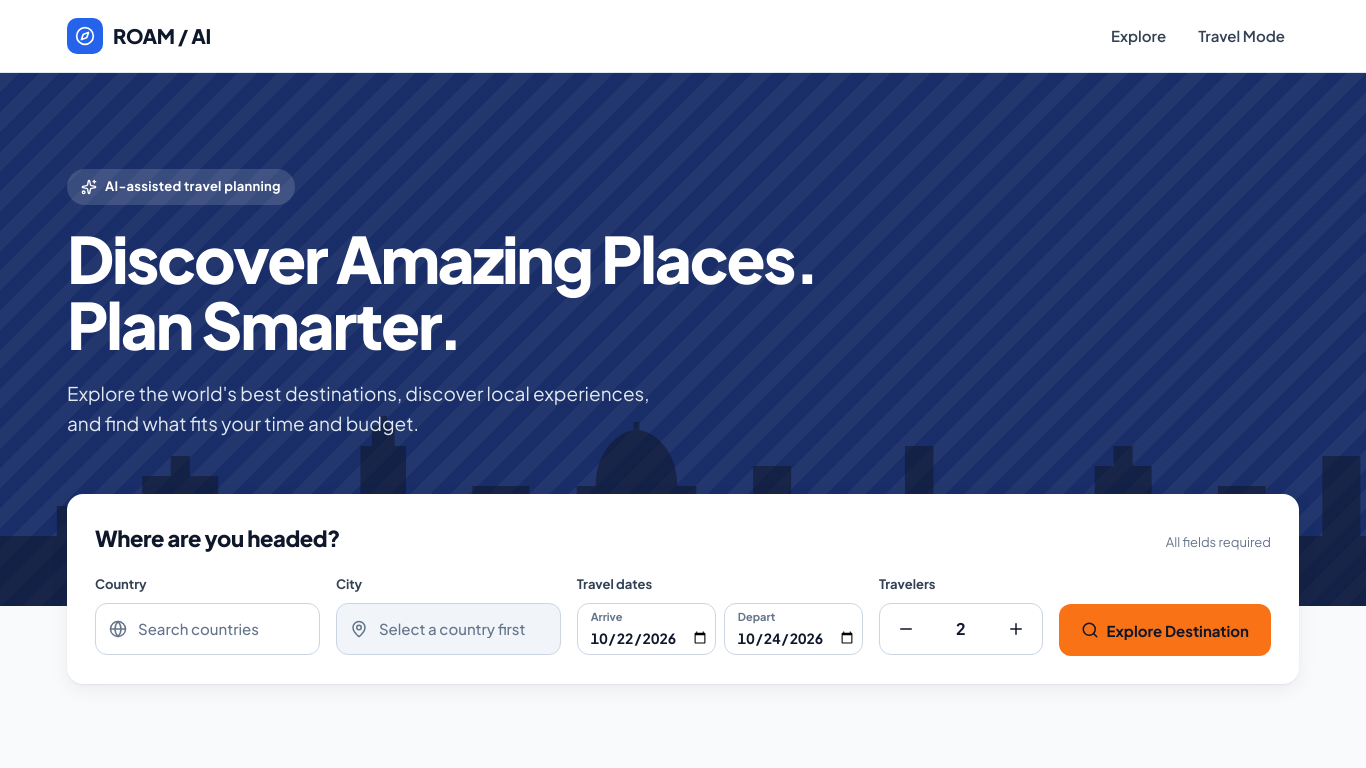
Test: HomePage › keeps the city picker disabled until a country is chosen
The image size is (1366, 768).
Expected: the dropdown labelled "City" is disabled, [336,603,561,655]
Step 1. Click the dropdown labelled "Country" → (207, 629), box [95,603,320,655]
(page scrolled)
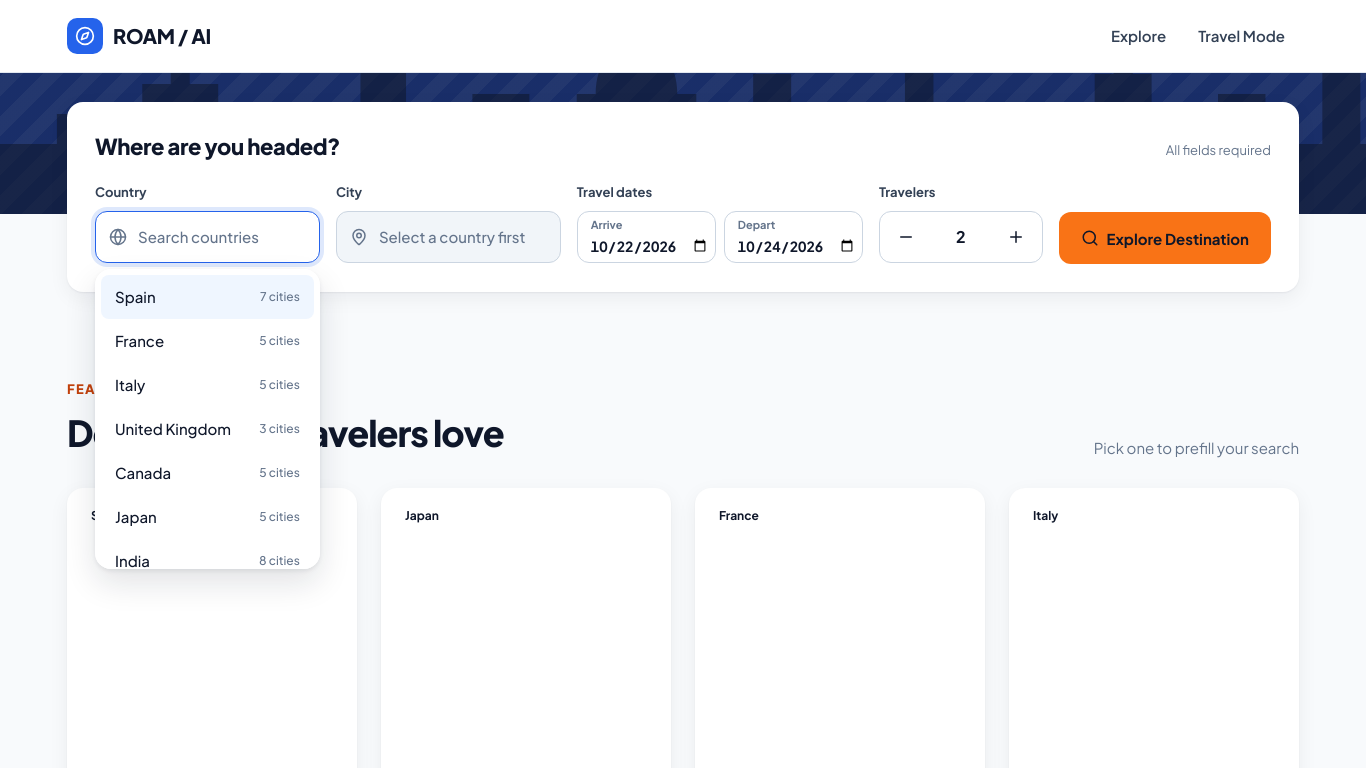
Step 2. Click the option "Italy 5 cities" → (130, 384), box [115,375,300,394]
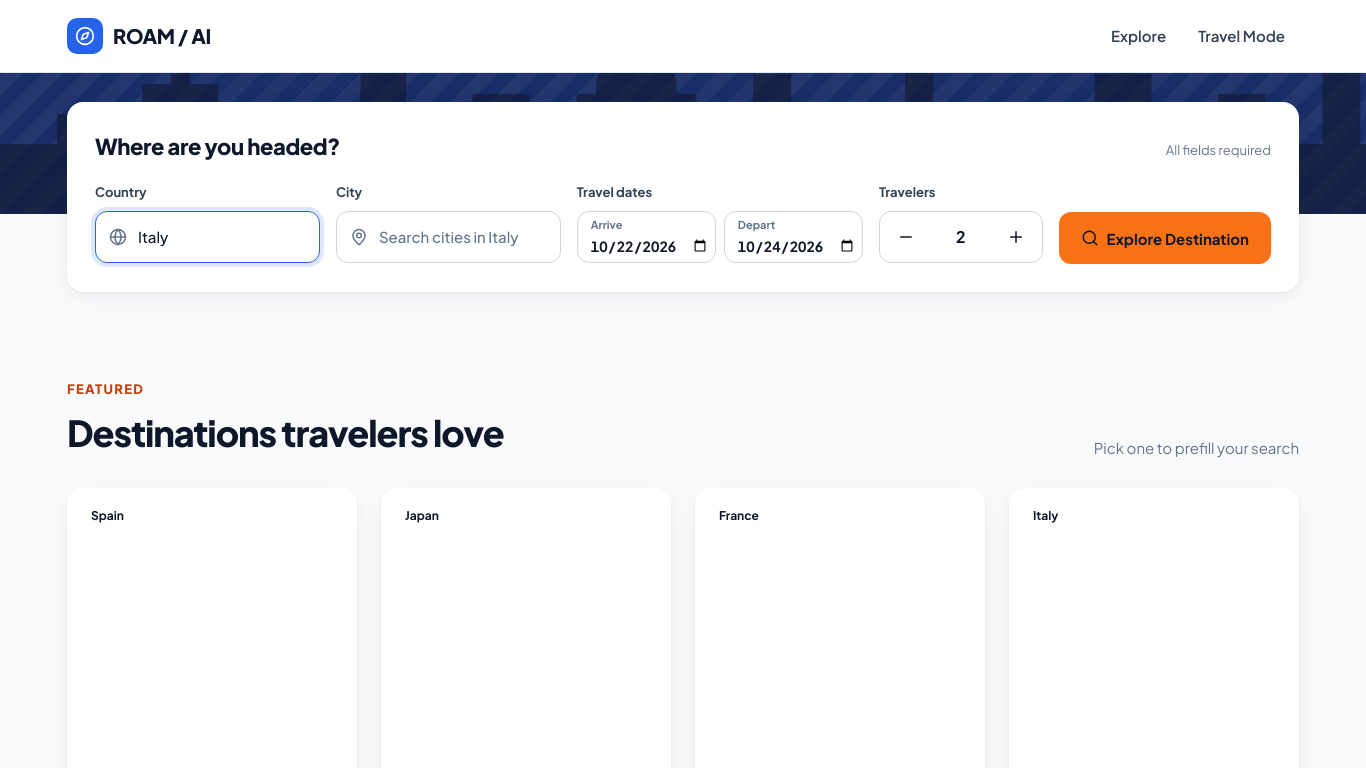
Expected: the dropdown labelled "City" is enabled, [336,211,561,263]
